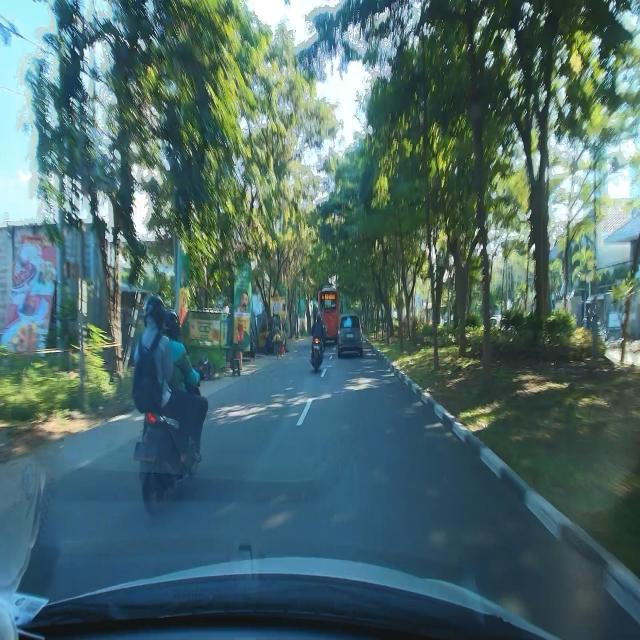bus: (317, 286, 340, 346)
car: (336, 315, 364, 359)
